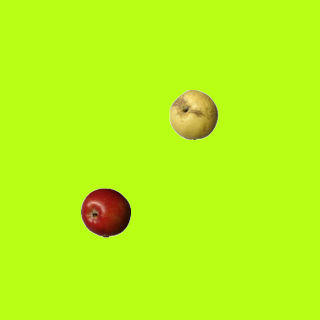Apple Braeburn: (80, 187, 130, 237)
Apple Golden 1: (168, 89, 218, 139)
